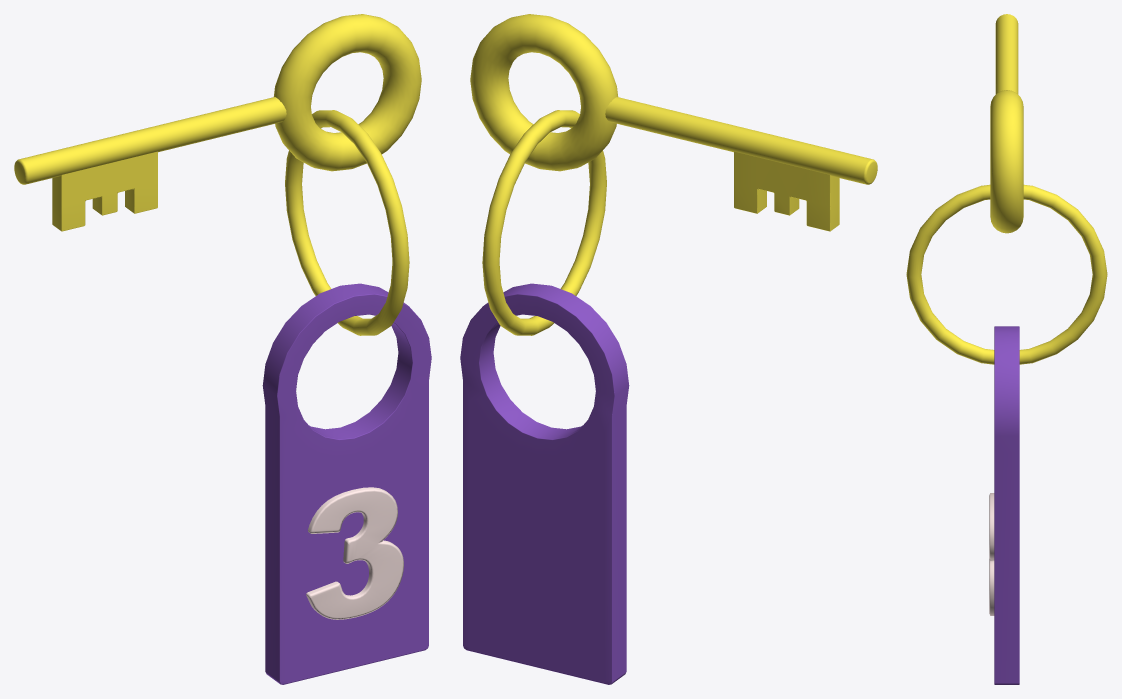
The model's file is Public_7_Key_Number_3.glb.
The picture shows the model from 3 angles, left to right: view 1: azimuth 30°, elevation 25°; view 2: azimuth 150°, elevation 25°; view 3: azimuth 270°, elevation 25°; orthographic projection. The views are drawn at different scales.
Parts seen in each view (by area): view 1: Public_7_Key_Number_3; view 2: Public_7_Key_Number_3; view 3: Public_7_Key_Number_3.
Part boxes in pixels (left/top/right/bottom): Public_7_Key_Number_3: left=14, top=14, right=431, bottom=684; Public_7_Key_Number_3: left=460, top=14, right=877, bottom=684; Public_7_Key_Number_3: left=906, top=14, right=1107, bottom=684.
Size of the model in its own units: 1.61 by 2.45 by 0.8011.
1 material, 1 textured.
